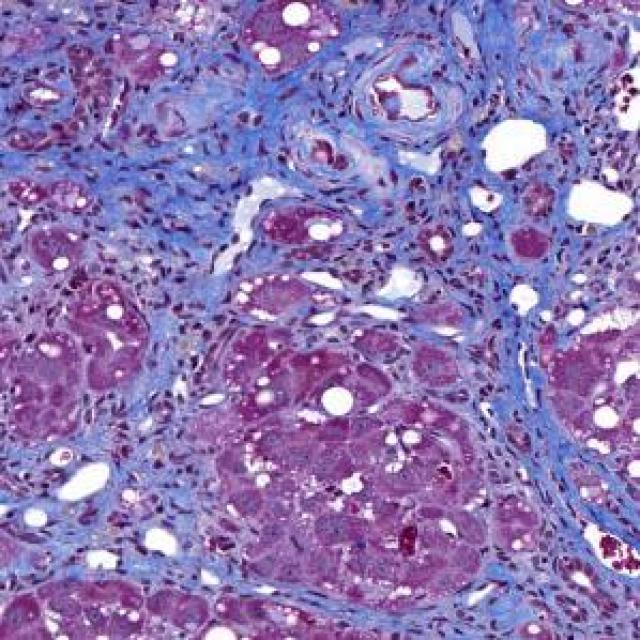fibrosis: (130, 73, 486, 263)
